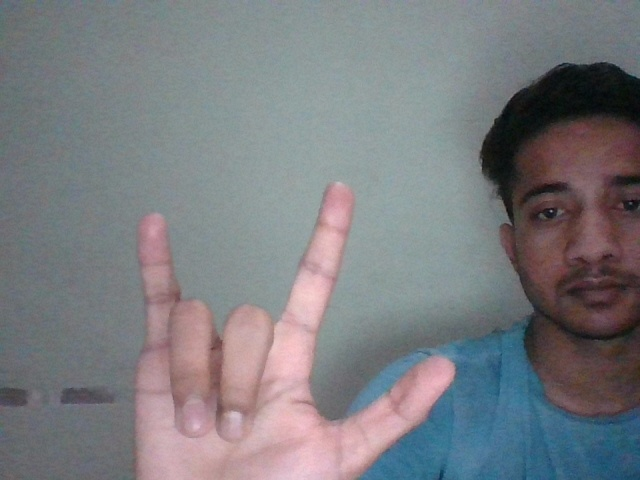iloveyou: (131, 181, 454, 480)
